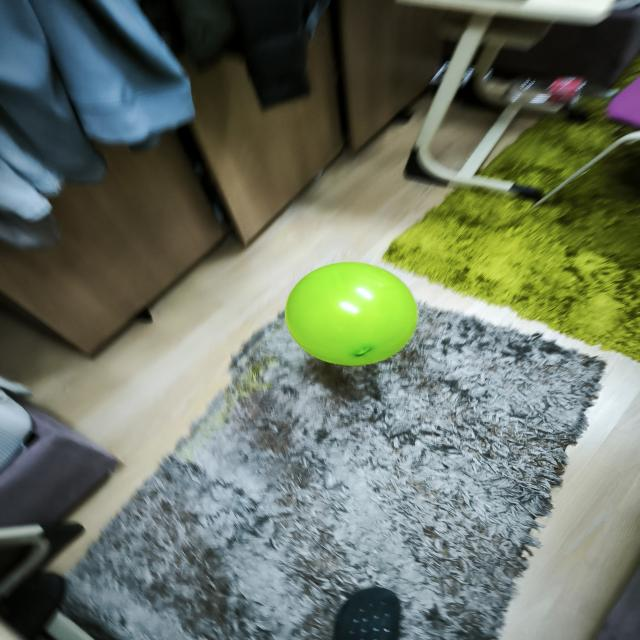balloon: (285, 262, 418, 366)
